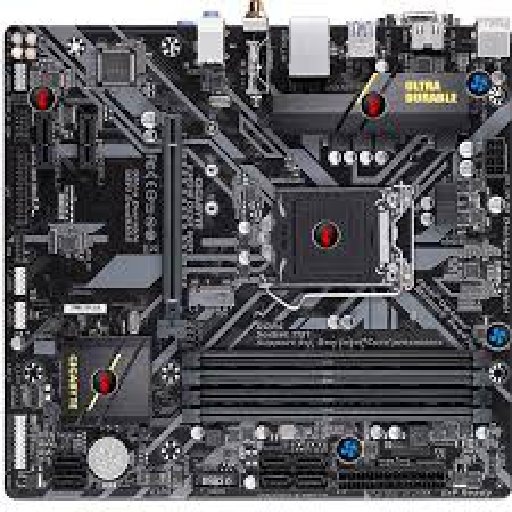CPU: (251, 180, 410, 292)
GPU: (158, 112, 195, 341)
MOTHERBOARD: (2, 17, 512, 502)
RAM: (178, 344, 495, 429)
SSD: (189, 277, 236, 313)
